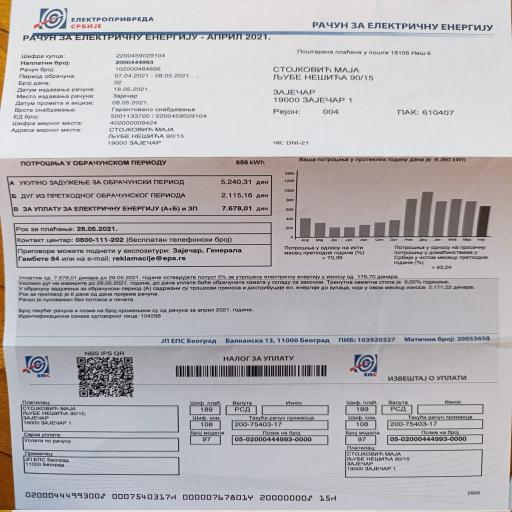racun_za_struju: (3, 154, 283, 235)
